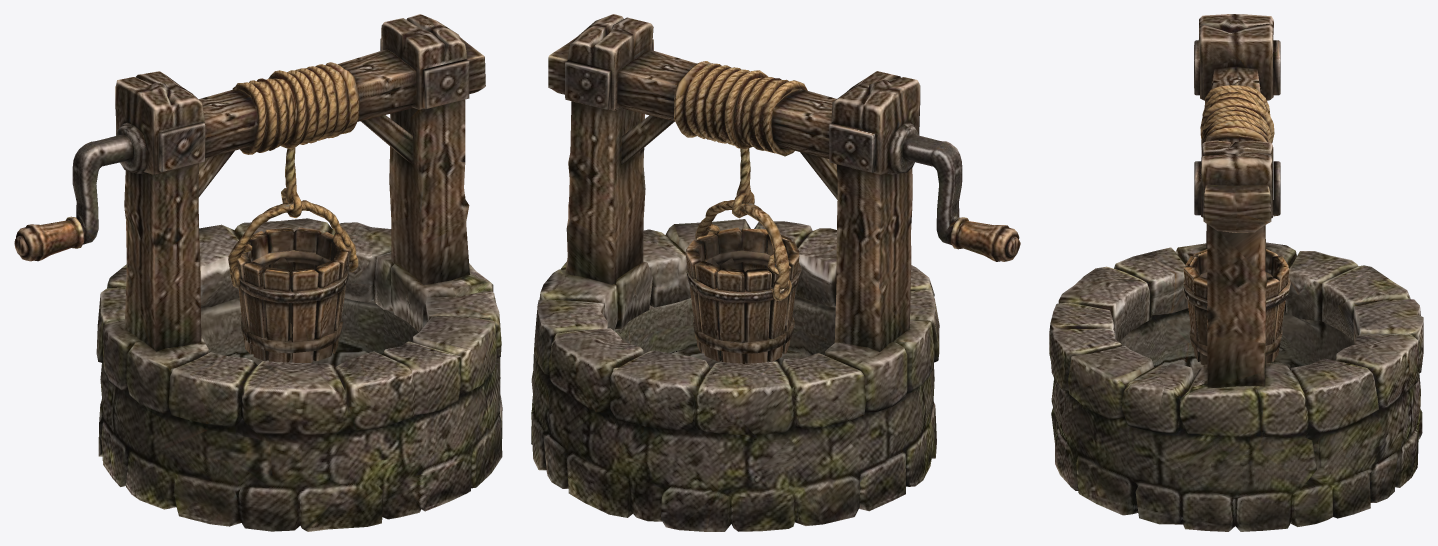
Rendered from well.glb.
3 renders of one model, left to right at view 1: azimuth 30°, elevation 25°; view 2: azimuth 150°, elevation 25°; view 3: azimuth 270°, elevation 25°, orthographic. The views are drawn at different scales.
Visible parts, largest first — view 1: Mesh_0; view 2: Mesh_0; view 3: Mesh_0.
Boxes of the visible parts, bbox=[...] form: Mesh_0: bbox=[14, 14, 502, 531]; Mesh_0: bbox=[531, 14, 1020, 531]; Mesh_0: bbox=[1049, 14, 1423, 531].
Bounding box in the file's own units: 0.9561 × 0.7998 × 0.7329.
1 material, 1 textured.
